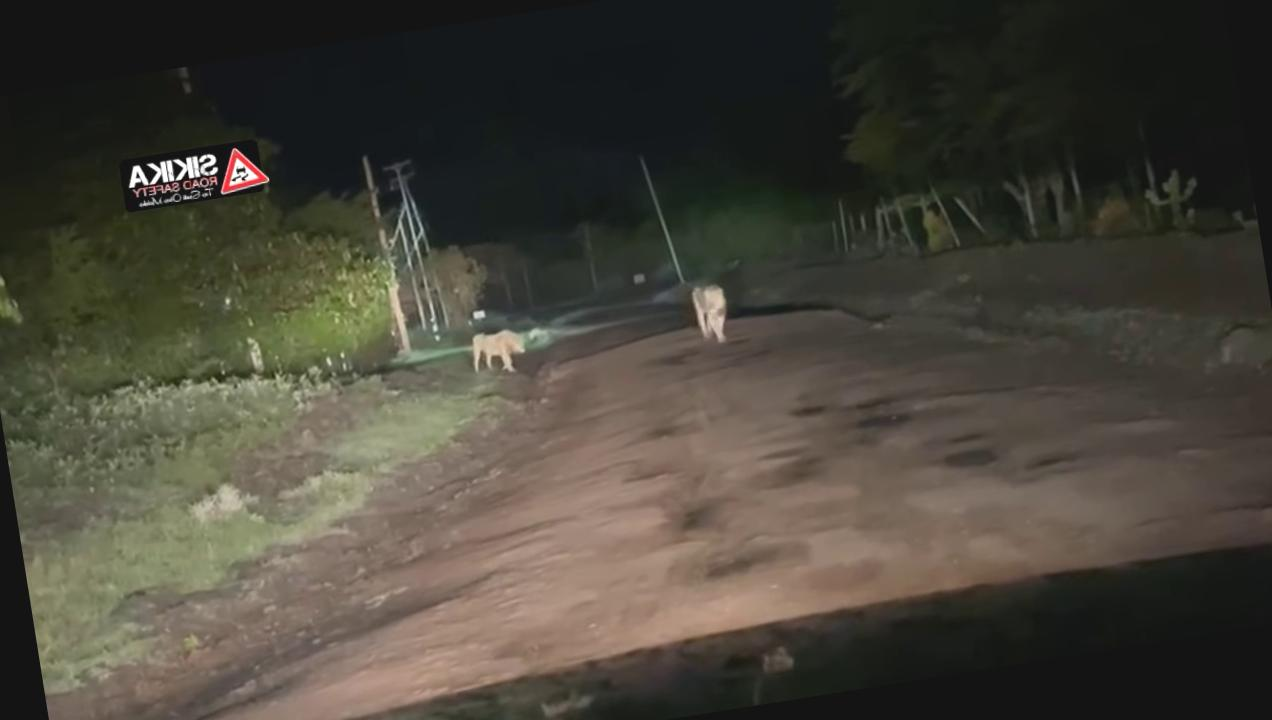lions: (430, 316, 546, 396), (676, 256, 748, 362)
